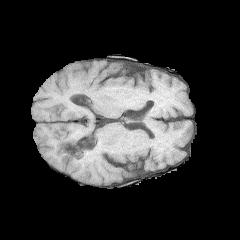glioma: (67, 142, 99, 177)
